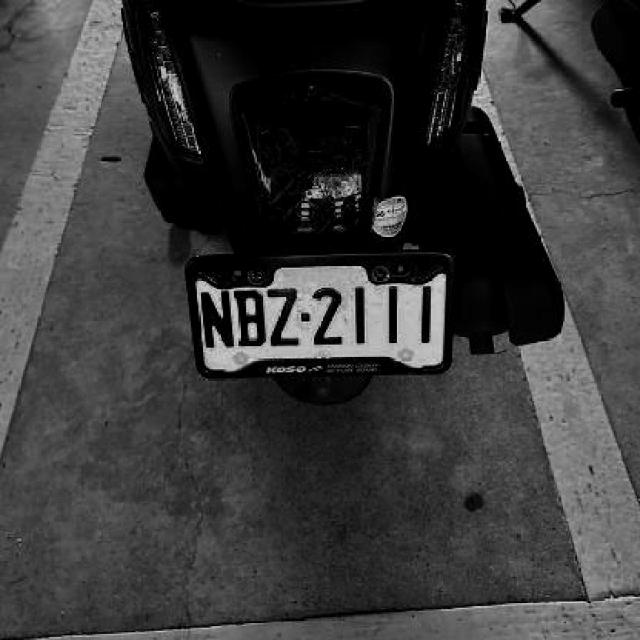-: (298, 311, 311, 323)
1: (384, 282, 402, 346), (417, 280, 434, 346), (352, 280, 368, 345)
2: (308, 282, 344, 346)
B: (234, 289, 266, 351)
N: (198, 288, 233, 348)
Z: (264, 286, 302, 345)
